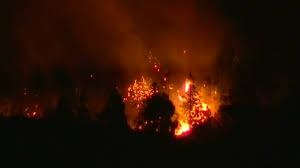fire: (123, 60, 223, 139)
